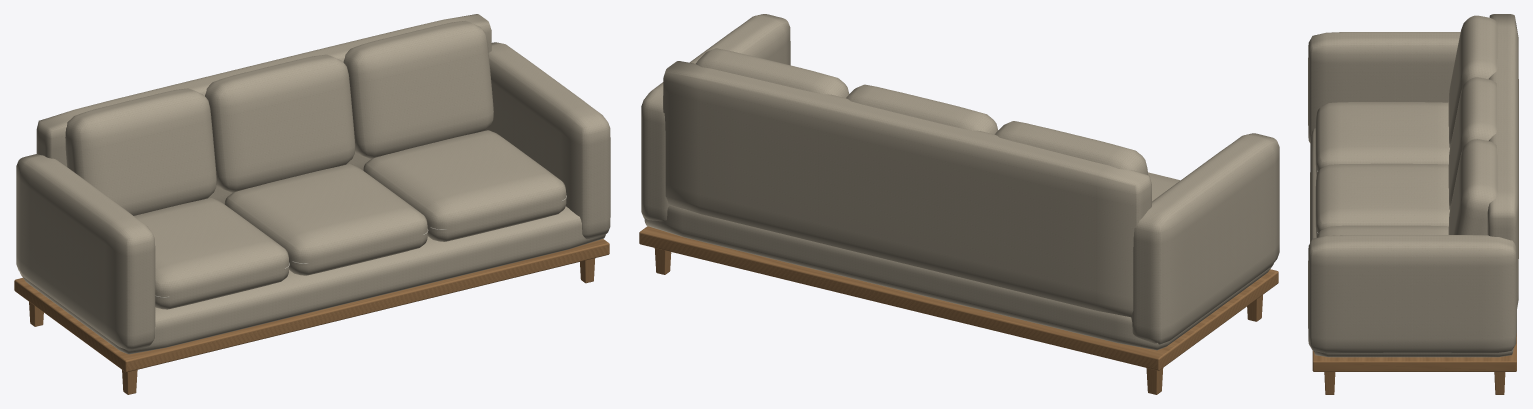
Rendered from sofa_3_lugares.glb.
3 renders of one model, left to right at view 1: azimuth 30°, elevation 25°; view 2: azimuth 150°, elevation 25°; view 3: azimuth 270°, elevation 25°, orthographic. The views are drawn at different scales.
Parts seen in each view (by area): view 1: sofa_3_lugares; view 2: sofa_3_lugares; view 3: sofa_3_lugares.
Part boxes in pixels (<box>): sofa_3_lugares: <box>14,14,610,394</box>; sofa_3_lugares: <box>639,14,1279,394</box>; sofa_3_lugares: <box>1308,14,1518,394</box>.
Bounding box in the file's own units: 2.11 × 0.8519 × 0.856.
Materials: 3 (2 with a texture image).
